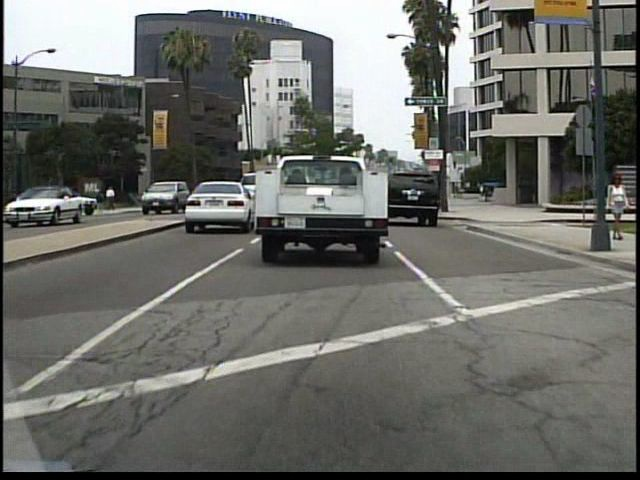person: (602, 169, 629, 244), (138, 182, 154, 213), (107, 185, 118, 214), (96, 188, 105, 213)
